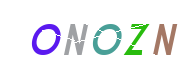0: (6, 0, 86, 80), (67, 0, 147, 80)
N: (50, 0, 130, 80), (96, 0, 176, 80)
Z: (79, 0, 159, 80)
